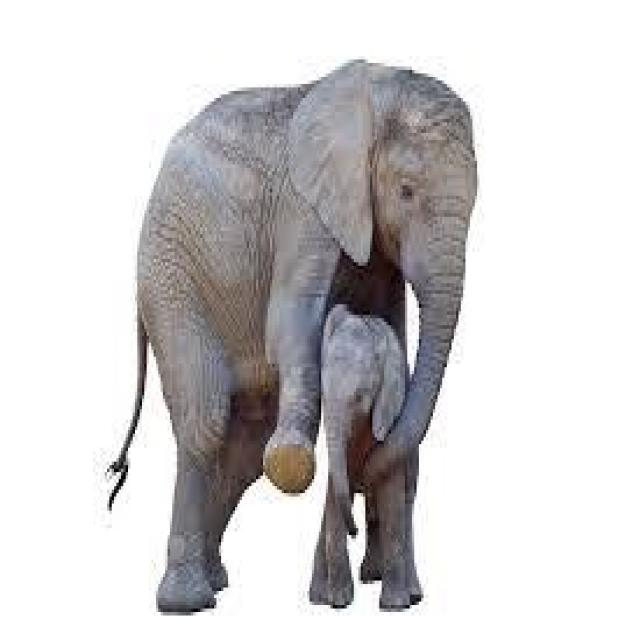Elephant: (135, 56, 472, 612), (303, 300, 421, 602)
